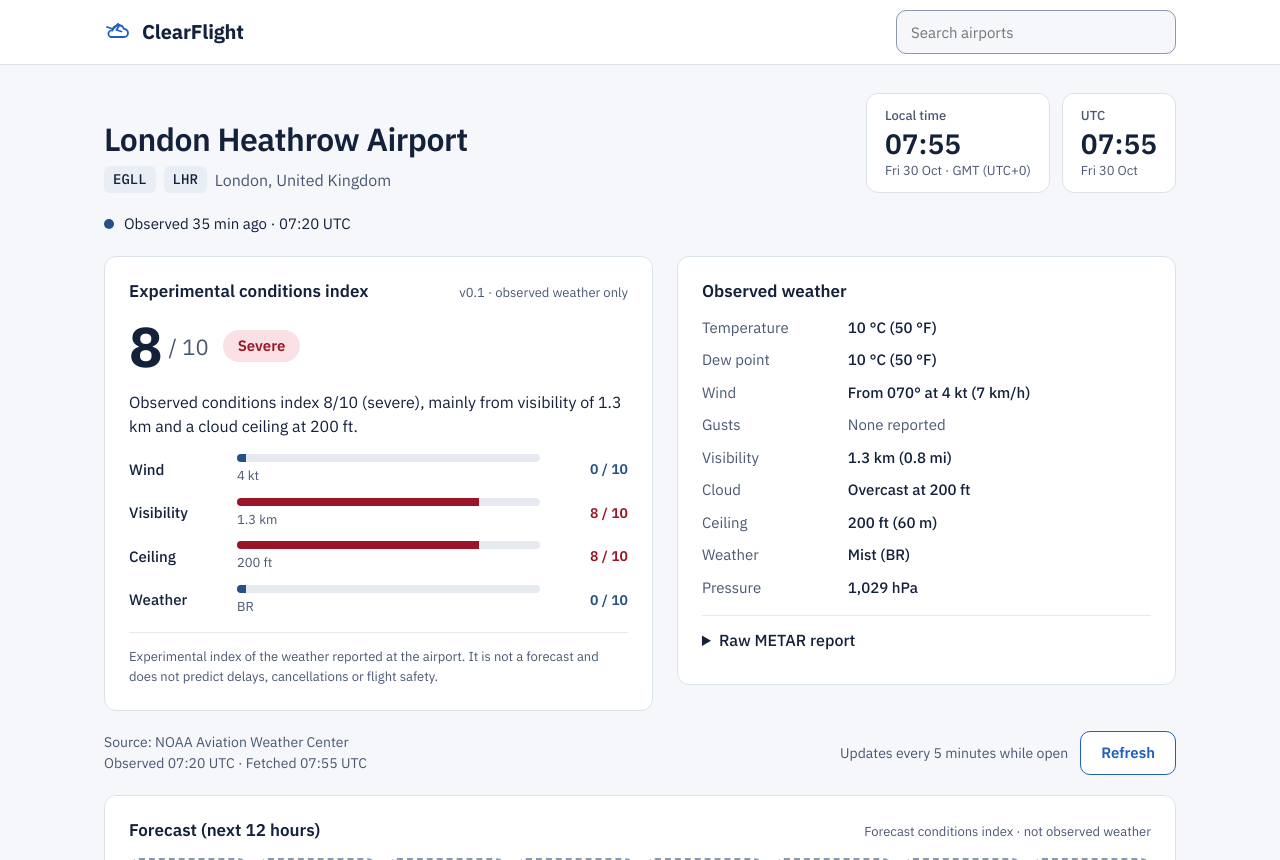
Test: airport page: refresh and ageing (D4, D11) › limits manual refresh to once a minute
Click the button "Refresh" at [1128, 753], box x1=1080 y1=731 x2=1176 y2=775
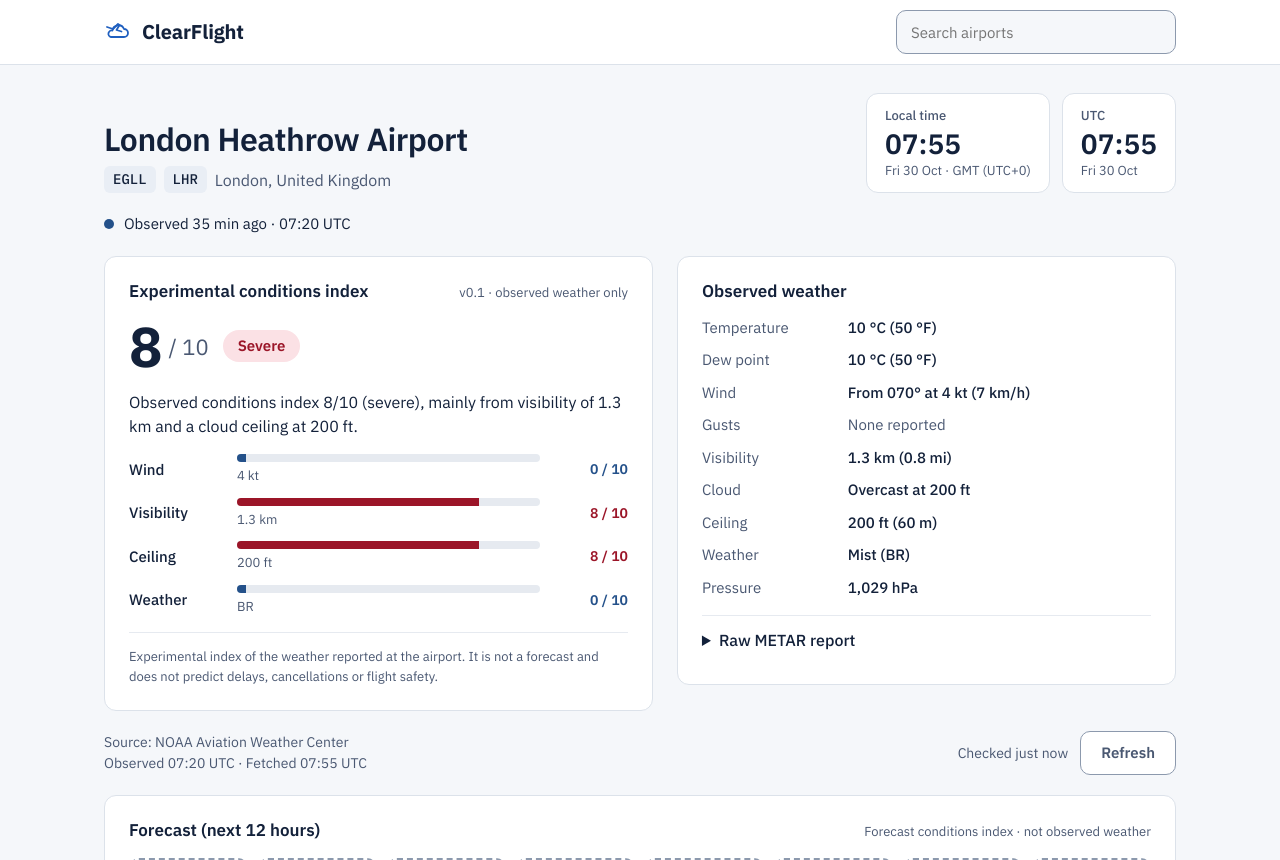
Expected: the text "Checked just now" is shown, x1=958 y1=742 x2=1068 y2=764
Expected: the button "Refresh" is disabled
Click the button "Refresh" at [1128, 753], box x1=1080 y1=731 x2=1176 y2=775
Wait 60000 ms
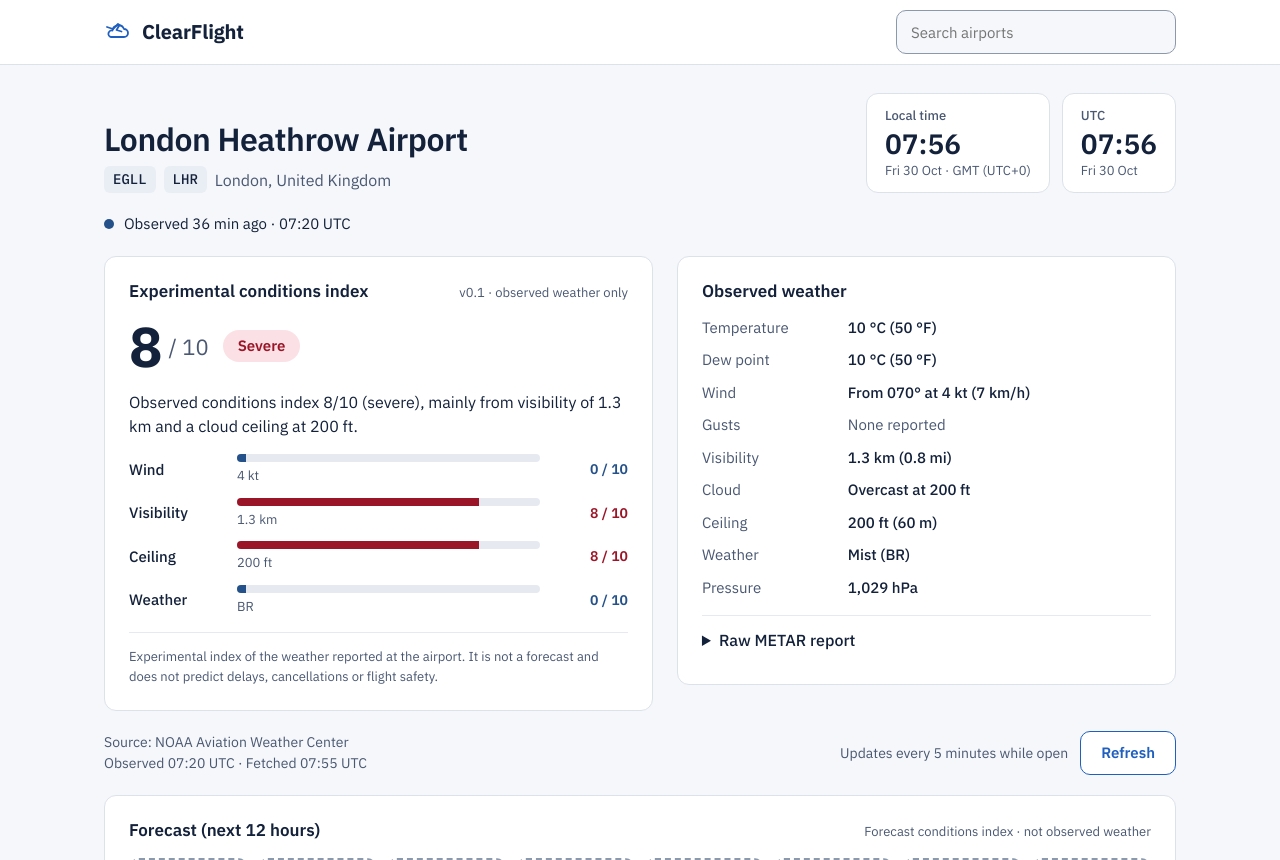
Expected: the button "Refresh" is enabled, x1=1080 y1=731 x2=1176 y2=775
